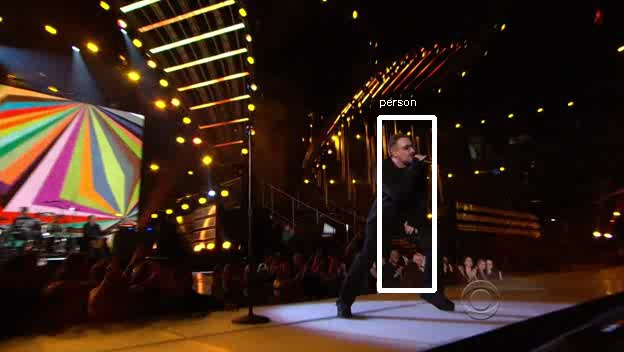person: (367, 135, 439, 263), (364, 135, 436, 263), (370, 135, 442, 263), (367, 132, 439, 260), (367, 138, 439, 266)
target_negative: (163, 90, 384, 267), (161, 250, 620, 327), (546, 127, 561, 293), (483, 134, 495, 225), (13, 200, 195, 204), (288, 291, 306, 300)
